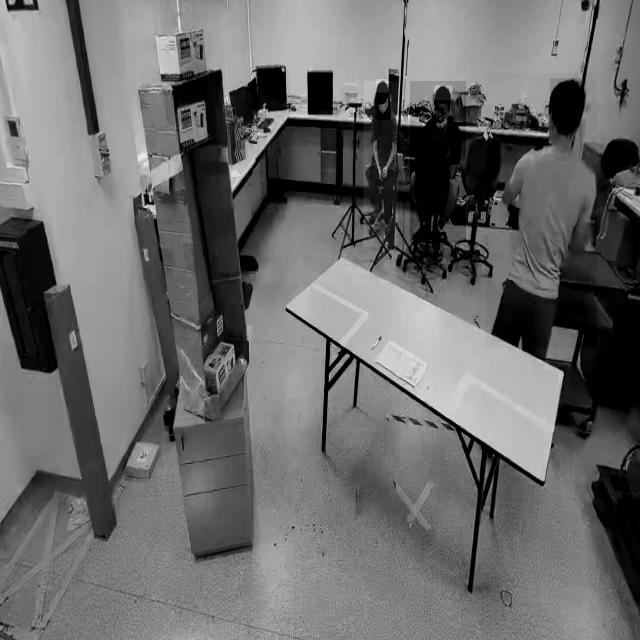face_mask: (376, 84, 391, 120)
hand_noglove: (383, 165, 389, 179), (379, 167, 383, 181)
head_nohelmet: (550, 78, 586, 100), (434, 85, 452, 102), (376, 79, 390, 93)
person: (485, 73, 597, 349), (410, 81, 466, 243), (363, 81, 397, 248)
